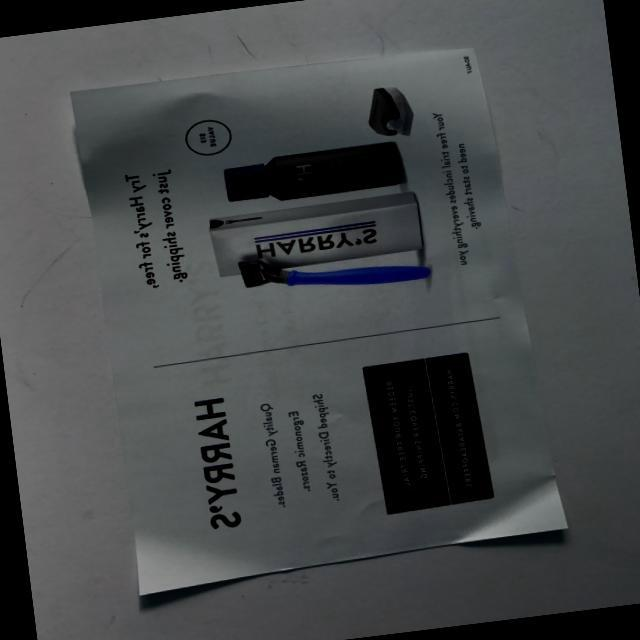paper: (69, 33, 569, 599)
